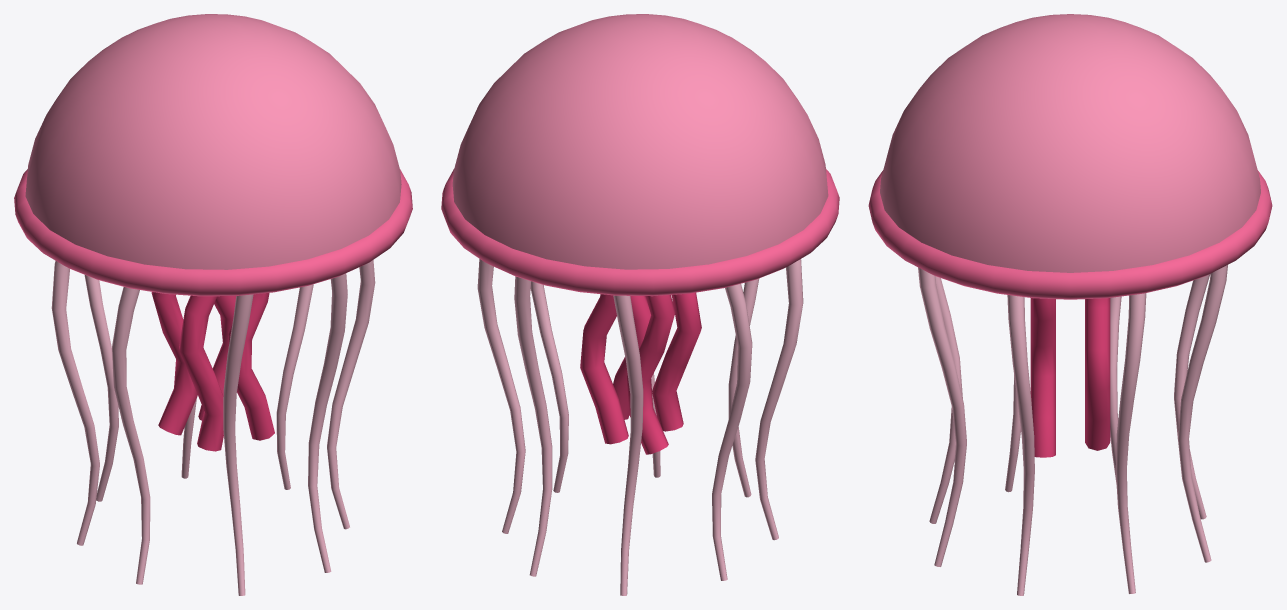
The model's file is jellyfish.glb.
3 renders of one model, left to right at view 1: azimuth 30°, elevation 25°; view 2: azimuth 150°, elevation 25°; view 3: azimuth 270°, elevation 25°, orthographic.
Visible parts, largest first — view 1: jellyfish; view 2: jellyfish; view 3: jellyfish.
Part boxes in pixels (x1,y1,x2,y2): jellyfish: (14,14,412,595); jellyfish: (441,14,839,595); jellyfish: (868,14,1272,595).
Bounding box in the file's own units: 1.58 × 2.2 × 1.58.
